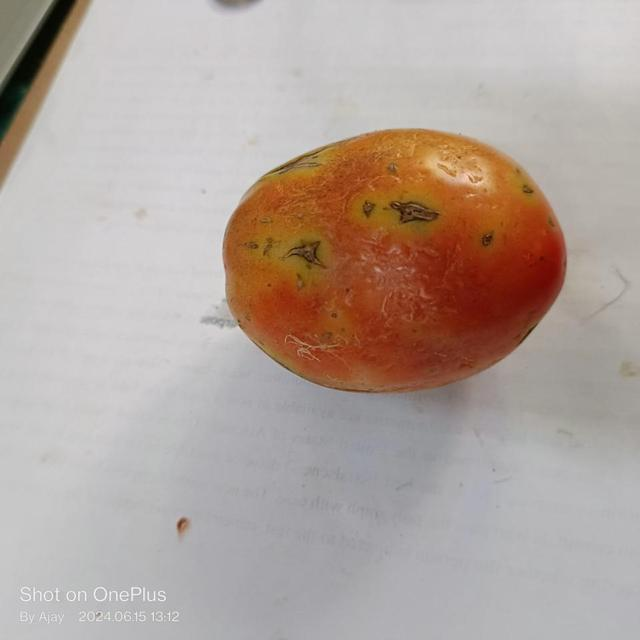Bacterial Spot Fruit: (12, 14, 353, 167)
